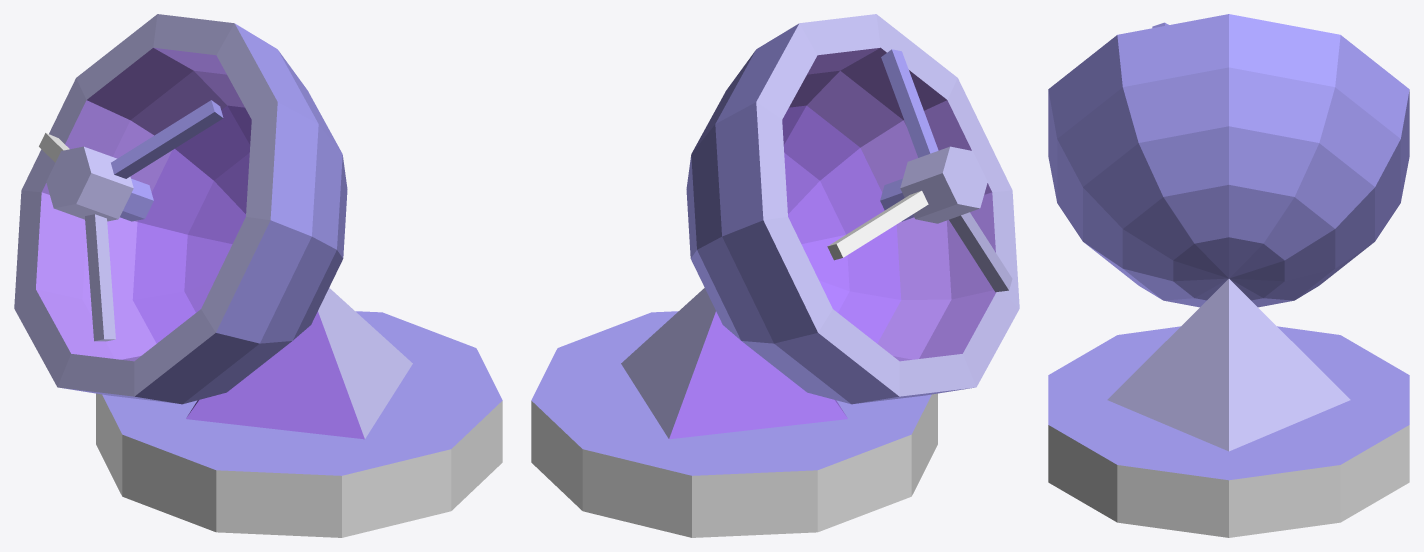
The model's file is Building_050.fbx.
The picture shows the model from 3 angles, left to right: view 1: azimuth 30°, elevation 25°; view 2: azimuth 150°, elevation 25°; view 3: azimuth 270°, elevation 25°; orthographic projection. The views are drawn at different scales.
Parts seen in each view (by area): view 1: Building_050; view 2: Building_050; view 3: Building_050.
Part boxes in pixels (left/top/right/bottom): Building_050: left=14, top=14, right=502, bottom=537; Building_050: left=531, top=14, right=1019, bottom=537; Building_050: left=1048, top=14, right=1409, bottom=537.
Bounding box in the file's own units: 7.16 × 7.22 × 5.71.
